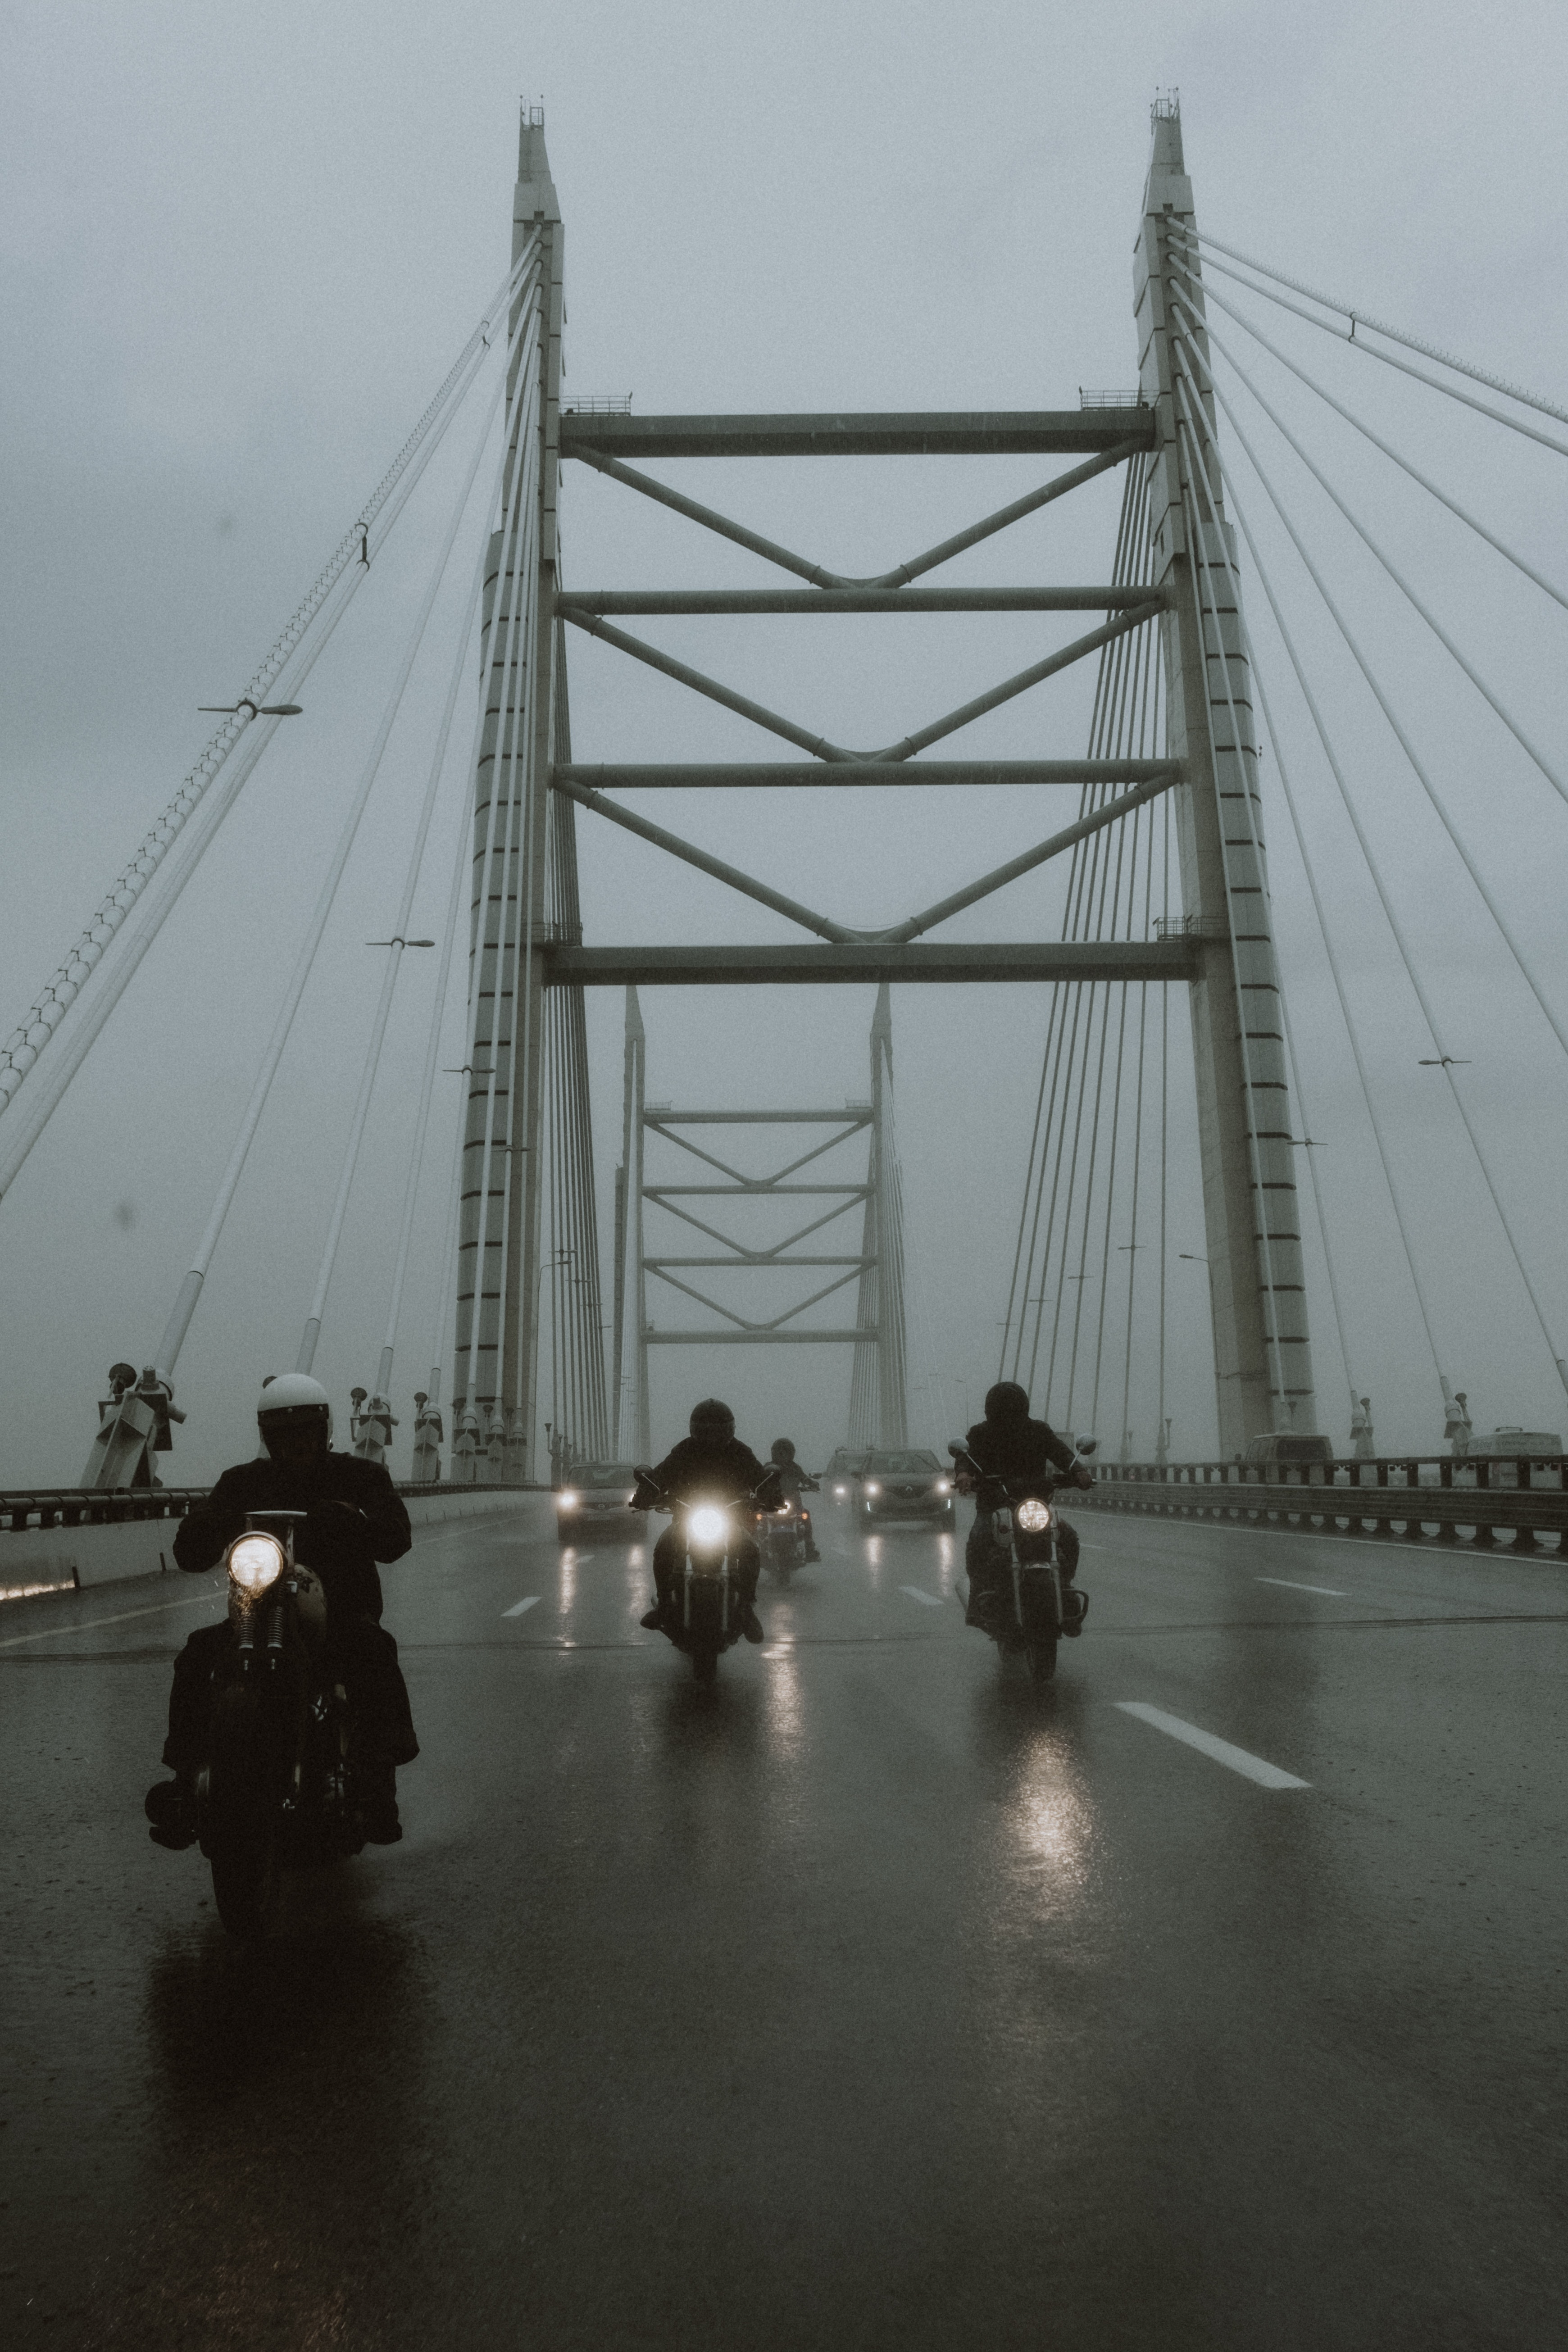bike: (164, 1381, 427, 1939), (591, 1403, 787, 1669), (955, 1391, 1095, 1662)
car: (854, 1449, 950, 1526)
